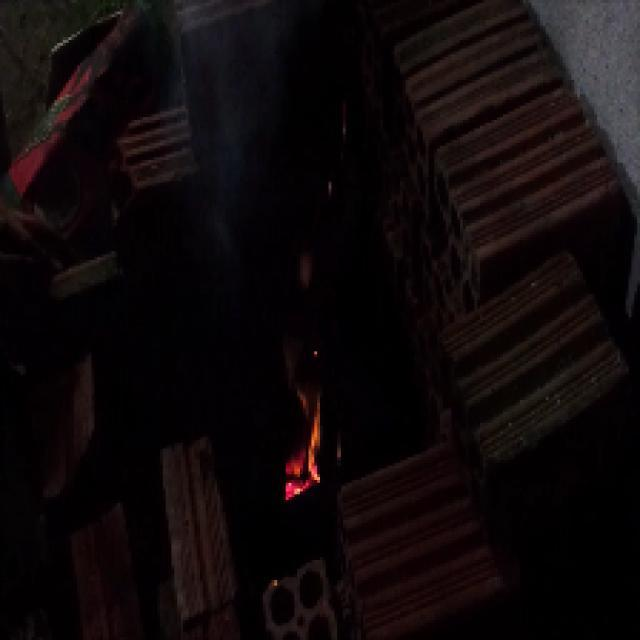Fire: (274, 381, 332, 506)
